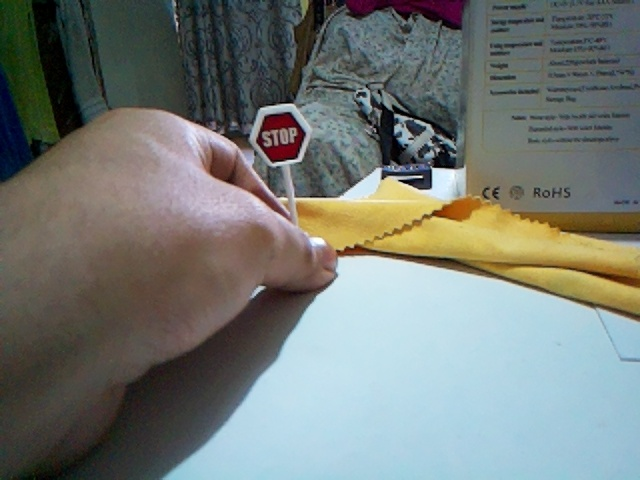stop_sign: (249, 103, 311, 169)
